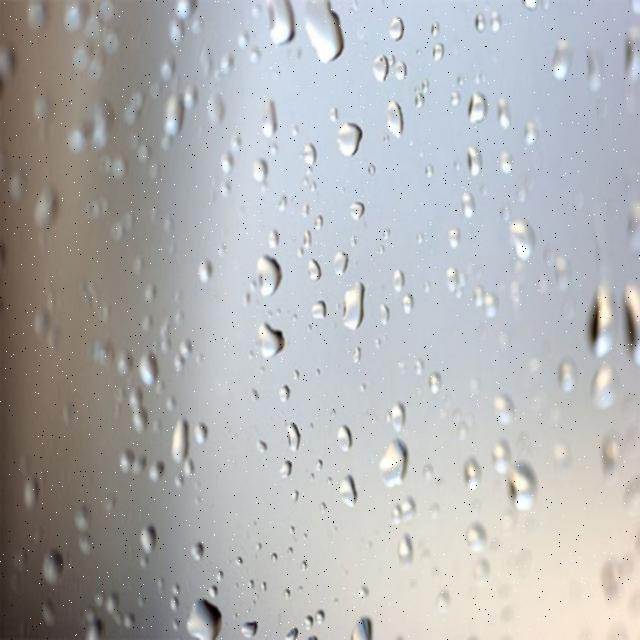raindrop: (299, 0, 350, 70), (582, 282, 618, 368), (502, 456, 539, 524), (375, 432, 413, 494), (501, 207, 538, 270), (182, 591, 228, 640), (250, 246, 285, 306), (252, 314, 290, 368), (262, 0, 295, 58), (332, 112, 366, 167), (338, 278, 368, 340), (380, 94, 410, 154), (158, 84, 186, 146), (130, 514, 161, 566), (167, 410, 190, 476), (463, 87, 492, 134), (334, 468, 359, 514), (280, 414, 303, 458), (333, 418, 356, 458), (328, 242, 350, 280), (384, 10, 406, 47), (306, 296, 327, 326), (346, 194, 364, 228)
